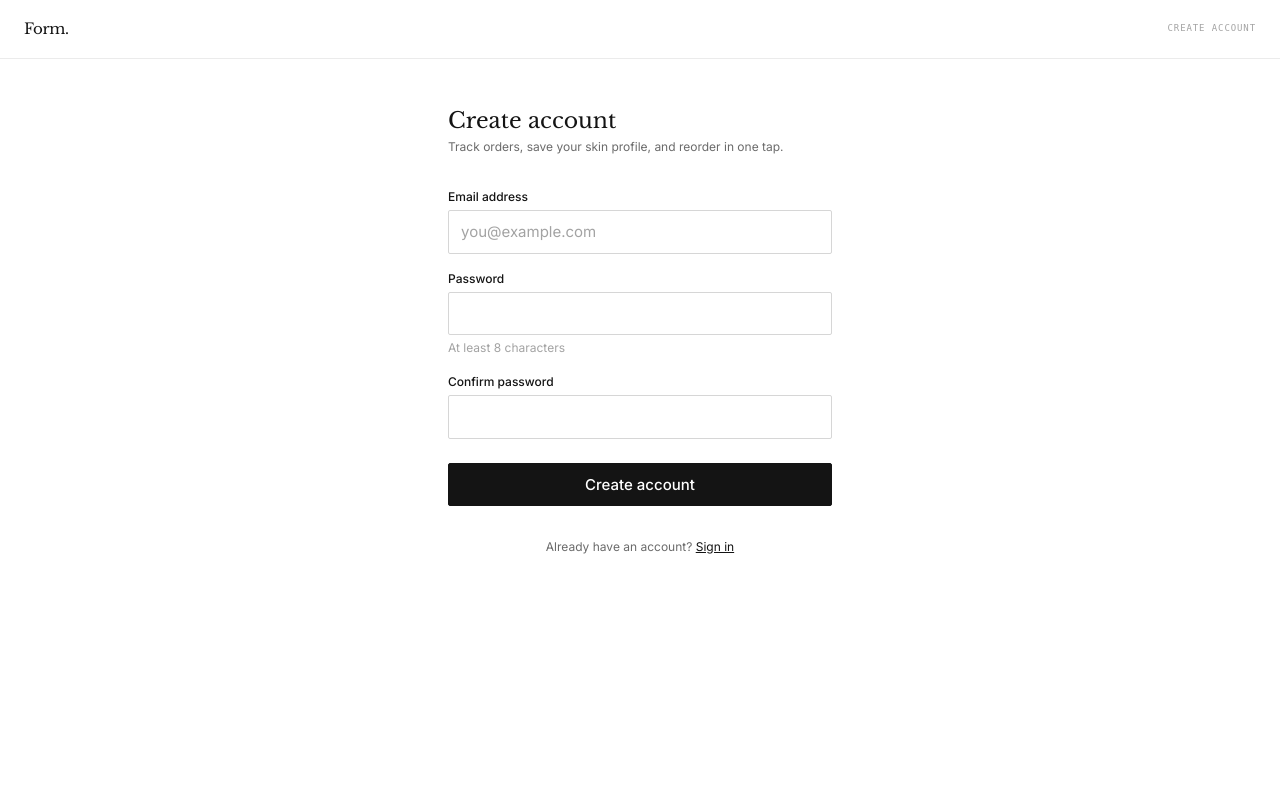
it: SignupPage › rejects mismatched passwords
The width and height of the screenshot is (1280, 800).
Type "buyer@example.com" into the field with test id "input-email" at (640, 232), box [448, 210, 832, 254]
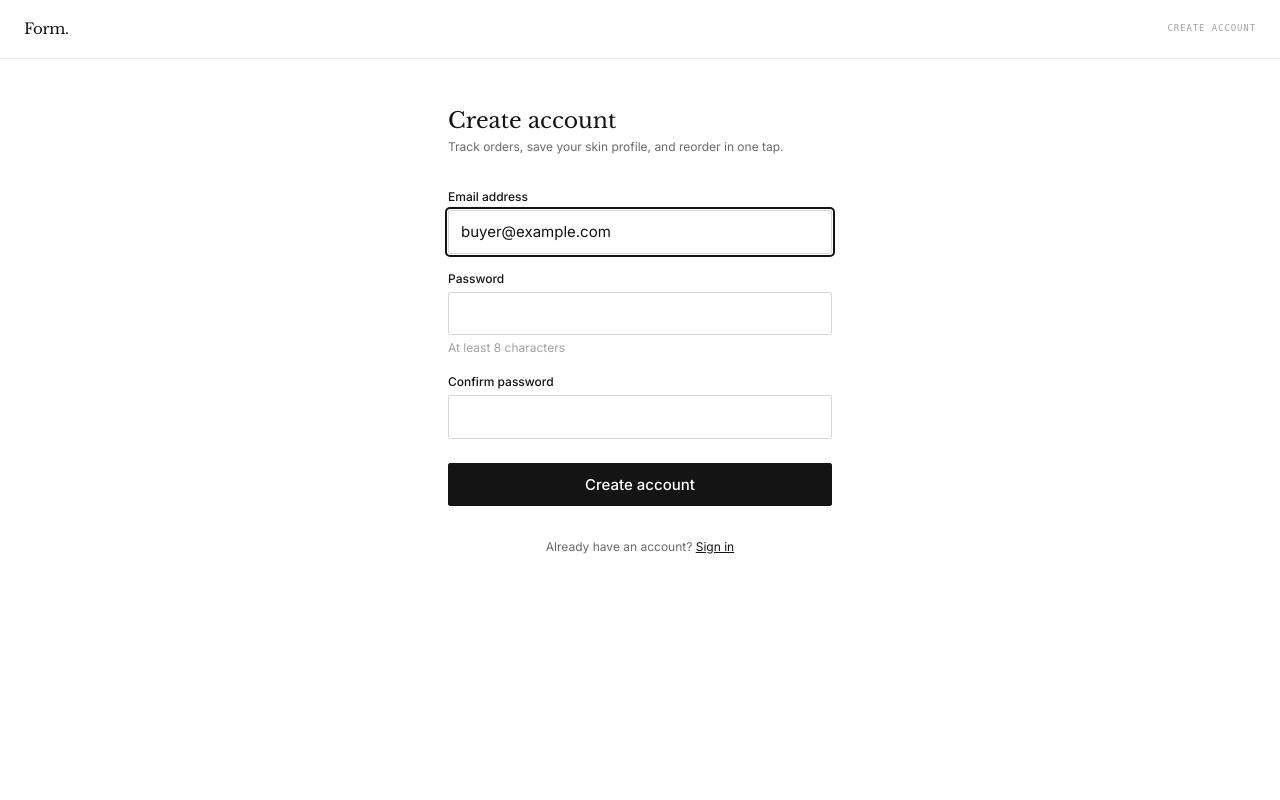
Type "correcthorse" into the password field with test id "input-password" at (640, 313), box [448, 292, 832, 335]
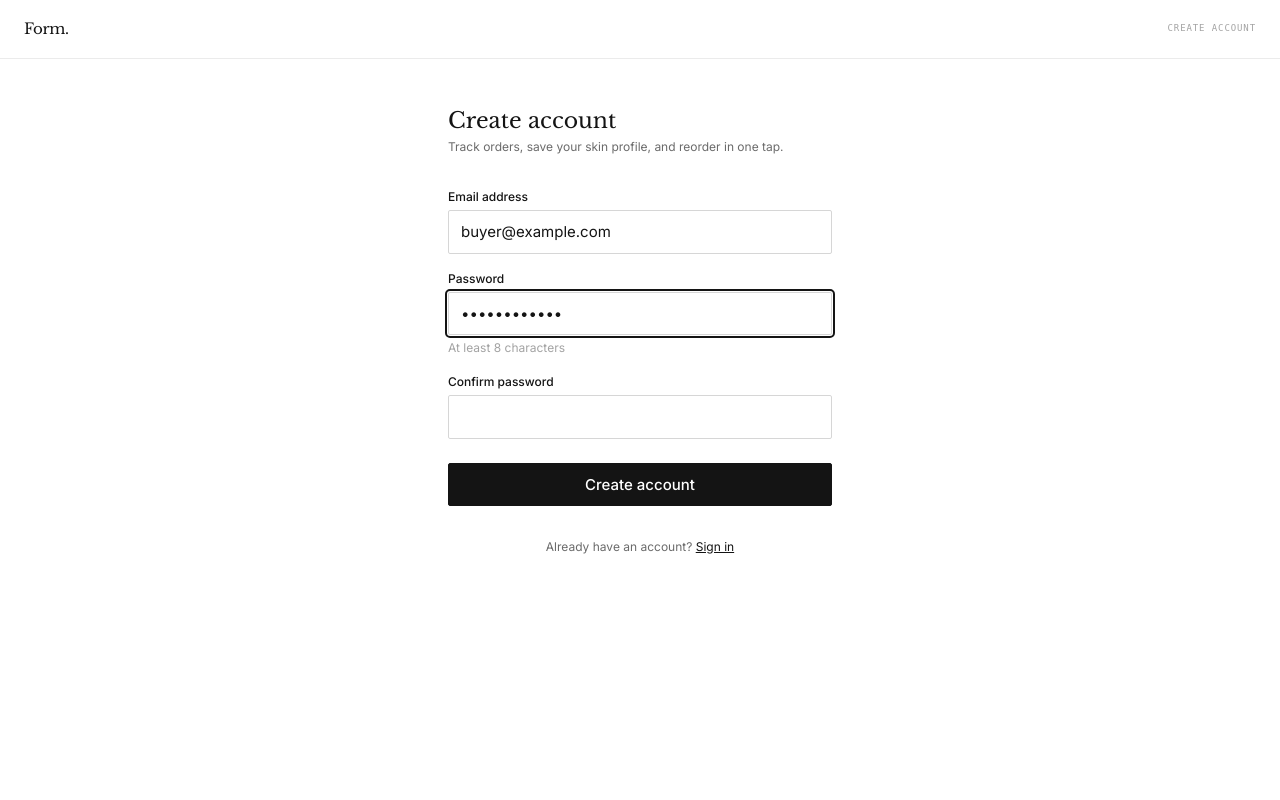
Type "different1" into the password field with test id "input-confirm-password" at (640, 417), box [448, 395, 832, 438]
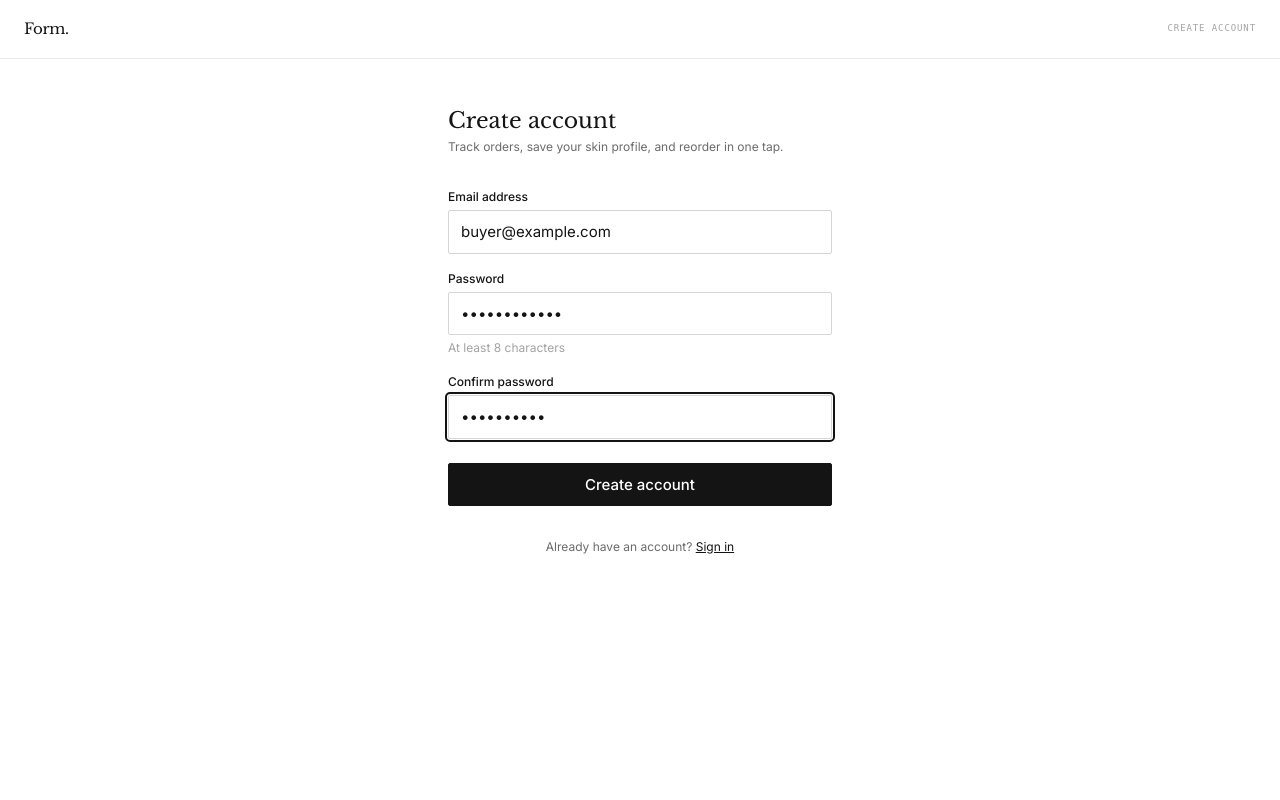
Click the button with test id "signup-submit" at (640, 484), box [448, 462, 832, 506]
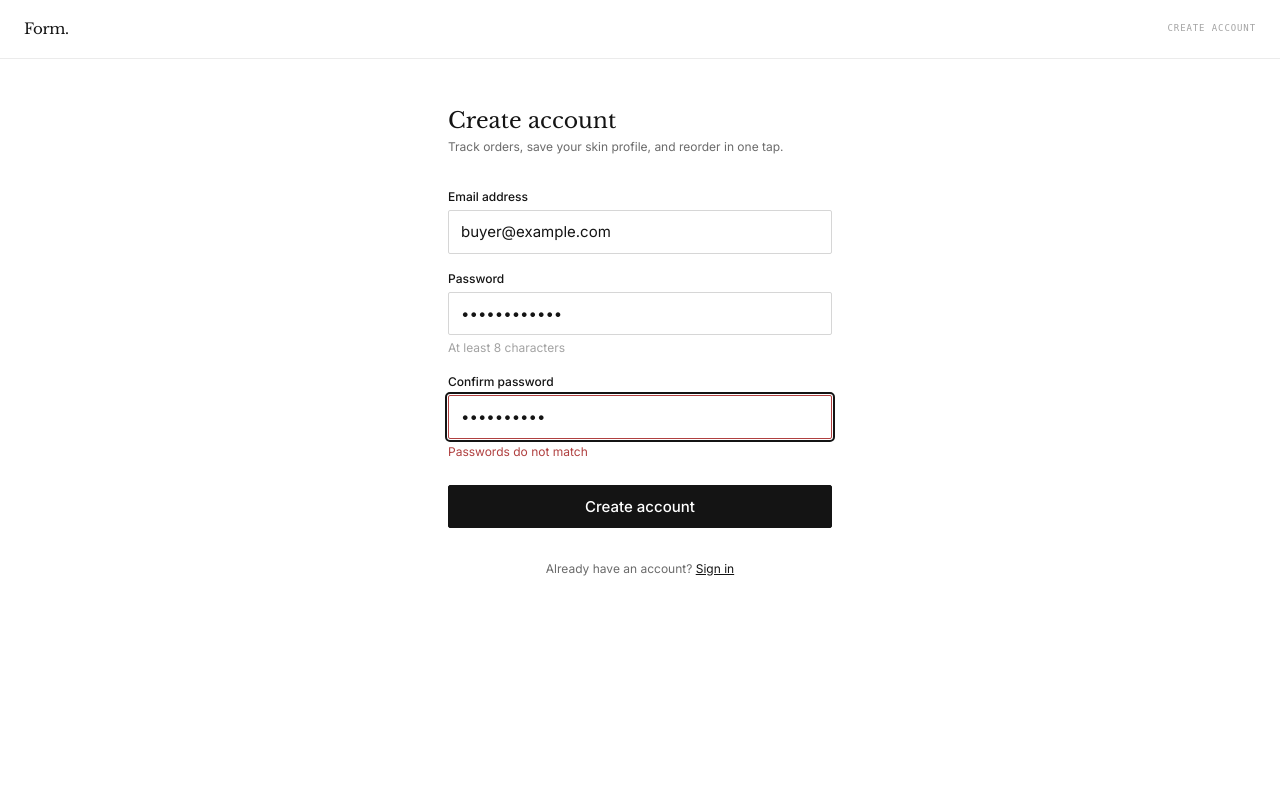
Expected: the text "Passwords do not match" is shown, [448, 444, 588, 458]
